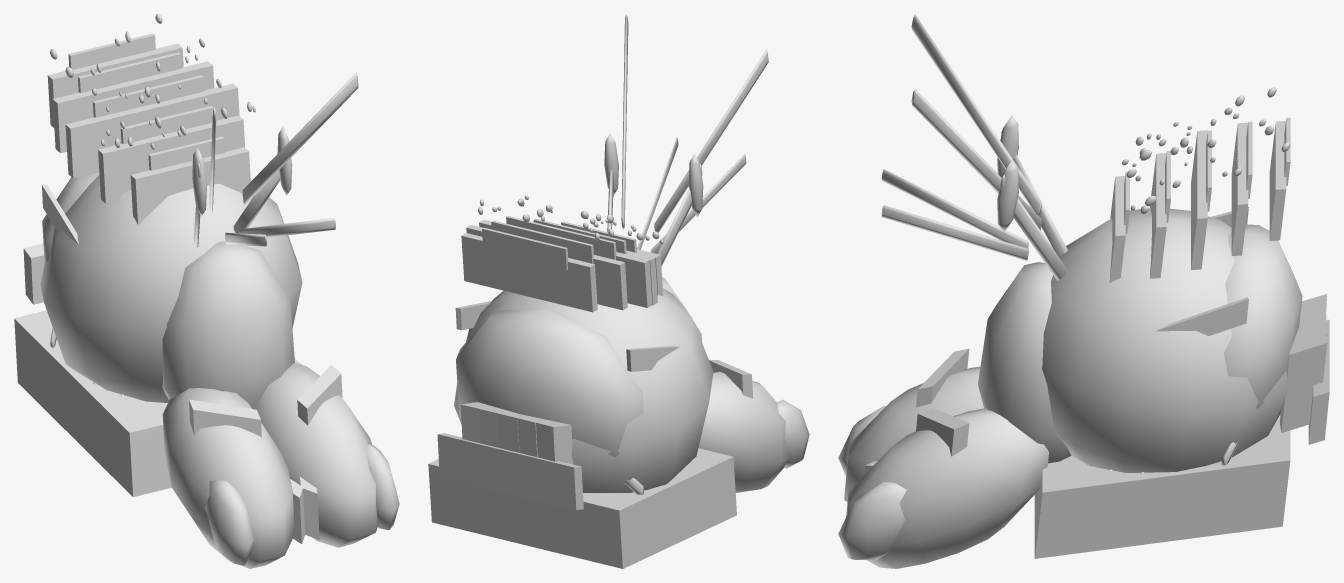
The model's file is fallback_snap_back_v11_LOCKED_TEXTURE.glb.
The picture shows the model from 3 angles, left to right: view 1: azimuth 30°, elevation 25°; view 2: azimuth 150°, elevation 25°; view 3: azimuth 270°, elevation 25°; orthographic projection. The views are drawn at different scales.
Visible parts, largest first — view 1: SnapBack_v10_LOCKED_WORKING_SIZE_Handle; view 2: SnapBack_v10_LOCKED_WORKING_SIZE_Handle; view 3: SnapBack_v10_LOCKED_WORKING_SIZE_Handle.
Part boxes in pixels (x1,y1,x2,y2): SnapBack_v10_LOCKED_WORKING_SIZE_Handle: (14,14,399,568); SnapBack_v10_LOCKED_WORKING_SIZE_Handle: (428,14,809,568); SnapBack_v10_LOCKED_WORKING_SIZE_Handle: (838,14,1329,568).
Bounding box in the file's own units: 0.00936 × 0.0181 × 0.0165.
1 material, 1 textured.
